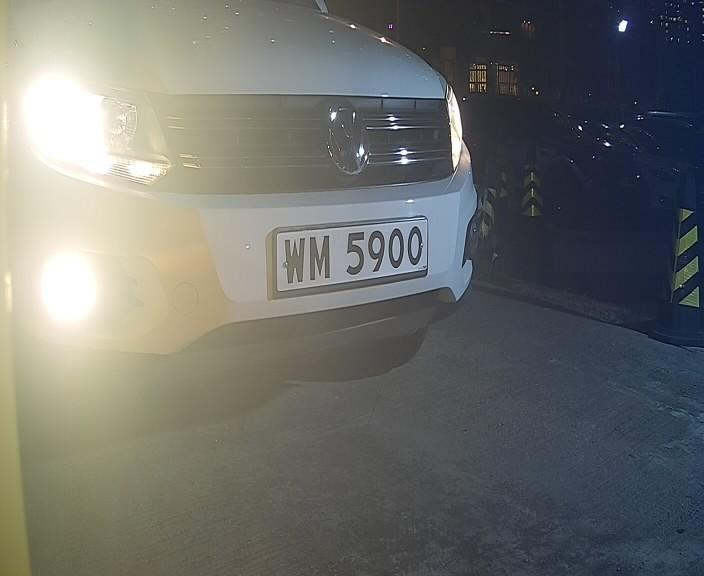privatecar: (2, 6, 488, 402)
